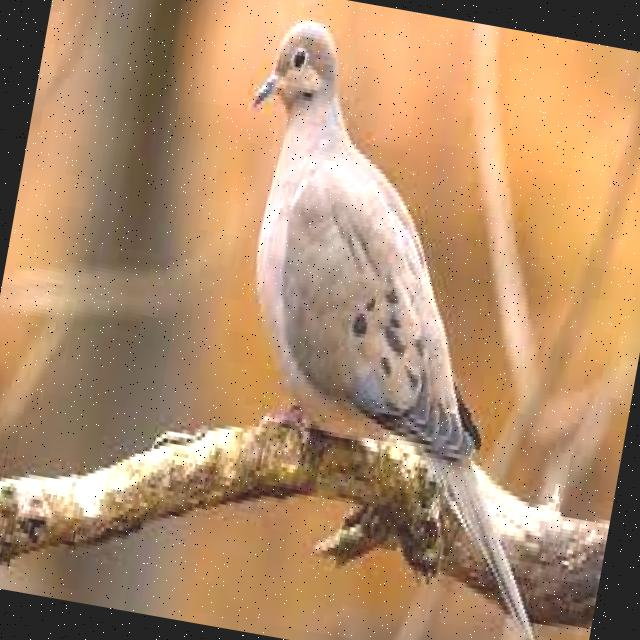dove: (163, 9, 640, 640)
